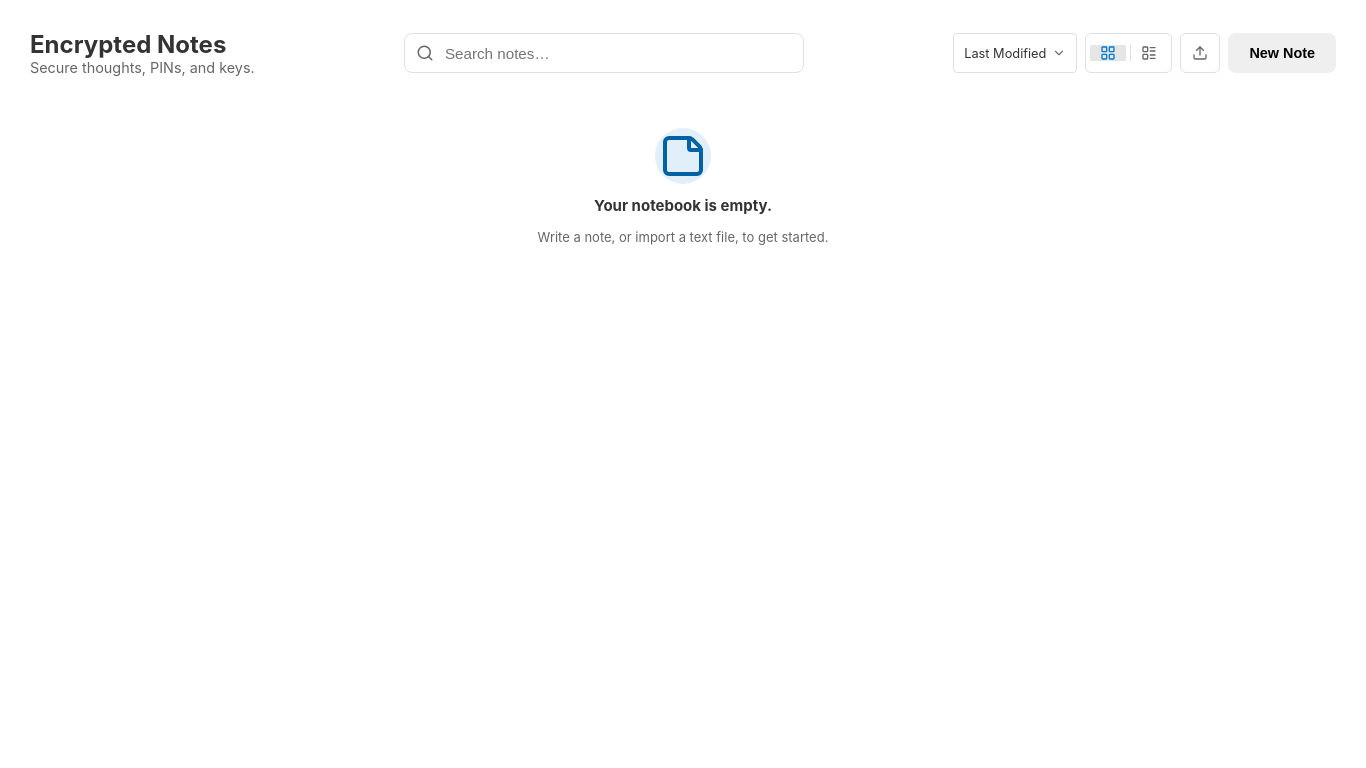
Test case: NotesView - writing notes › asks for a title instead of saving an untitled note
The width and height of the screenshot is (1366, 768).
Click the button "New Note". click: (1282, 53)
box: [1228,33,1336,73]
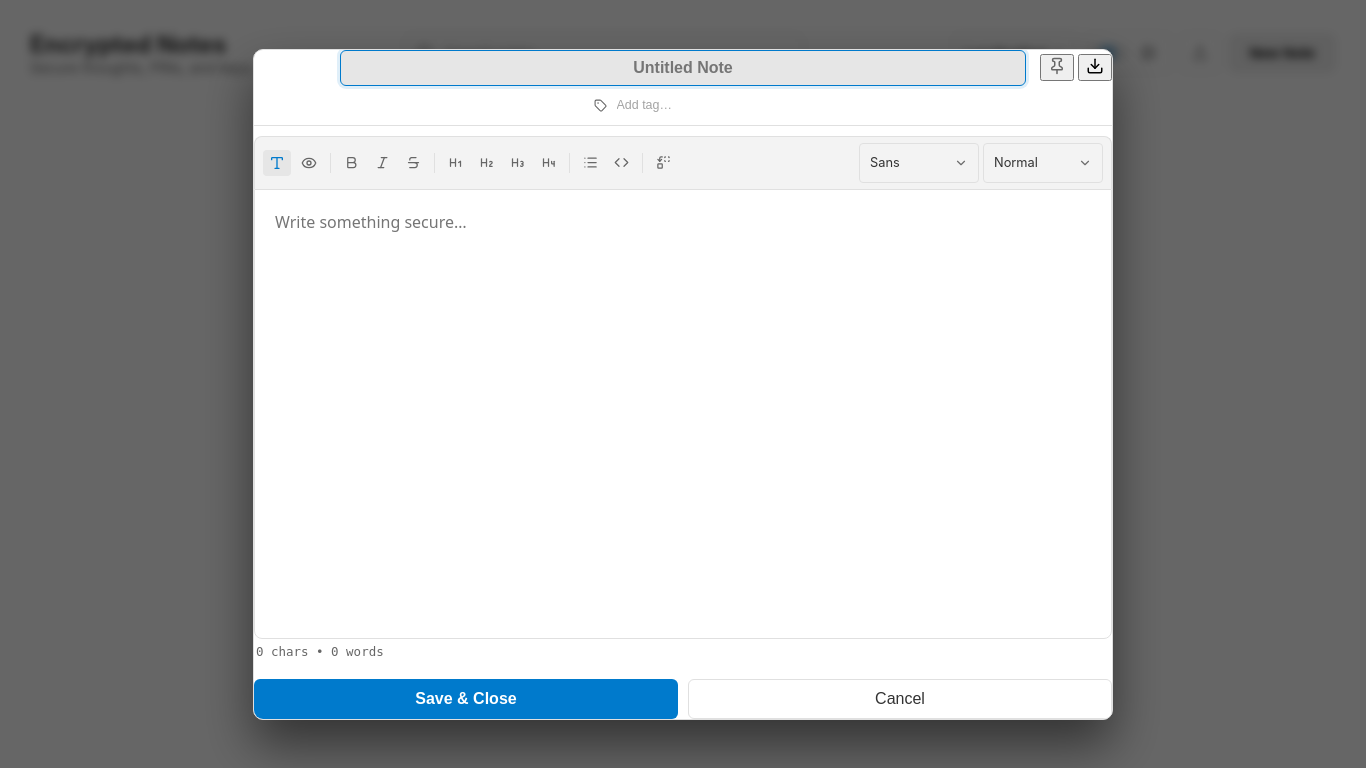
Type "no title yet" into the text box with placeholder "Write something secure…". click: (683, 414)
box: [255,190,1111,638]
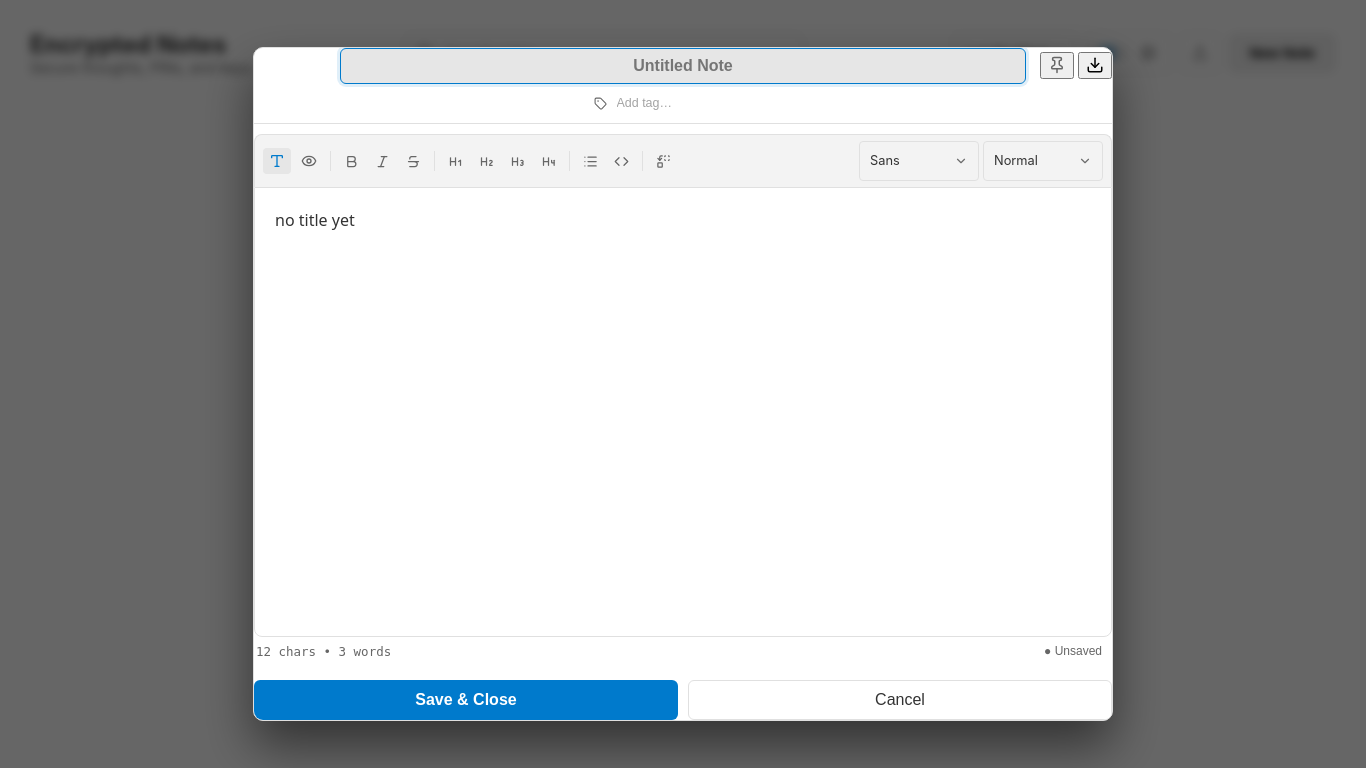
Click the button "Save & Close". click: (466, 700)
box: [254,680,678,720]
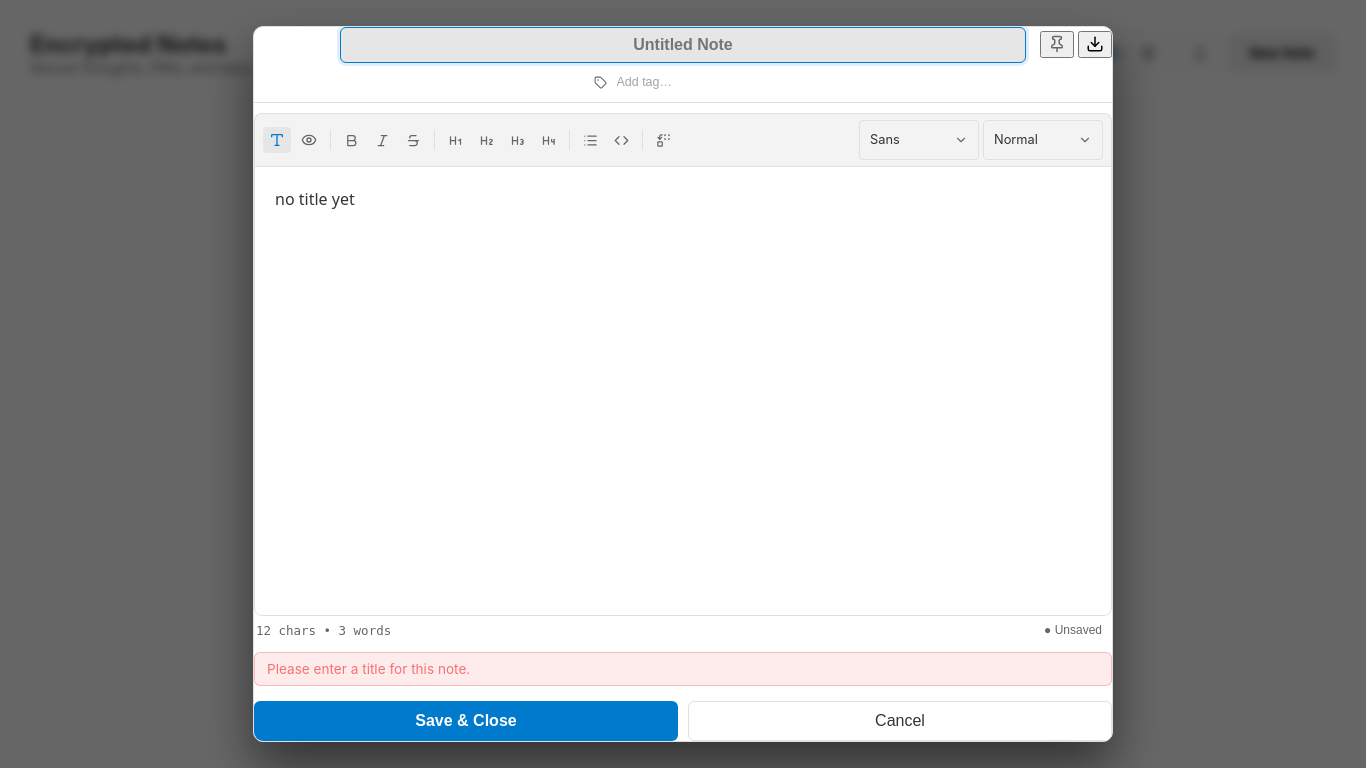
expect the field with placeholder "Untitled Note" is shown: met, box [340,27,1026,63]
expect the text "Please enter a title for this note." is shown: met, box [254,652,1112,686]
